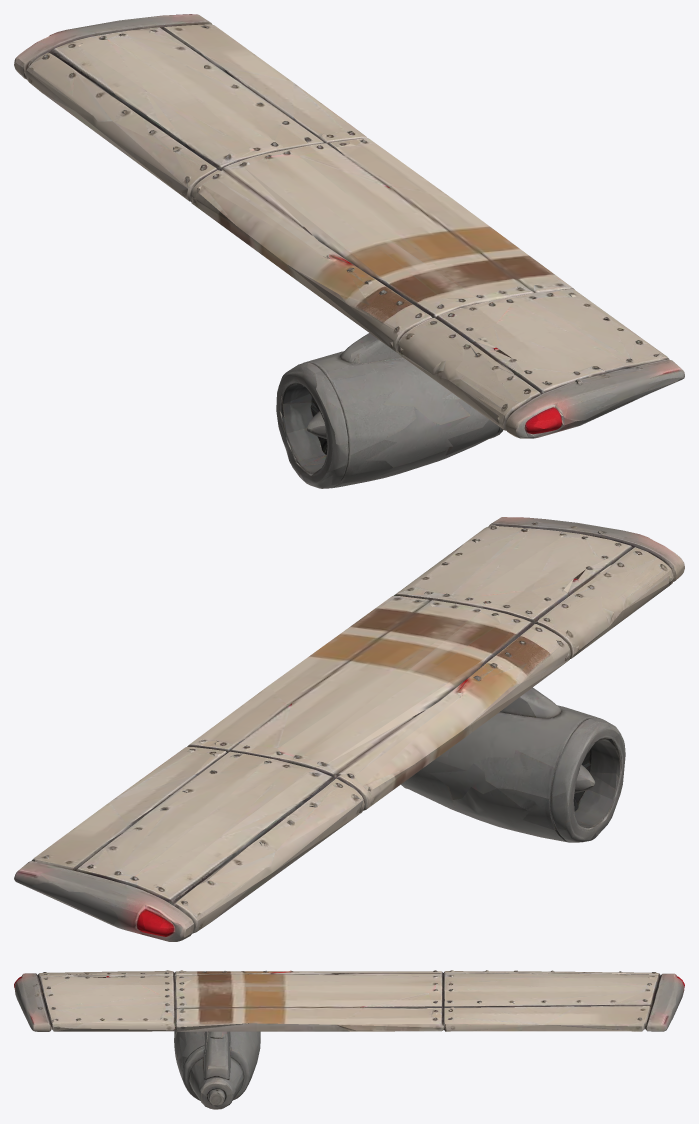
The model's file is rv-wing.glb.
3 renders of one model, top to bottom at view 1: azimuth 30°, elevation 25°; view 2: azimuth 150°, elevation 25°; view 3: azimuth 270°, elevation 25°, orthographic. The views are drawn at different scales.
Bounding box in the file's own units: 0.5366 × 0.3639 × 1.9.
Materials: 1 (1 with a texture image).
